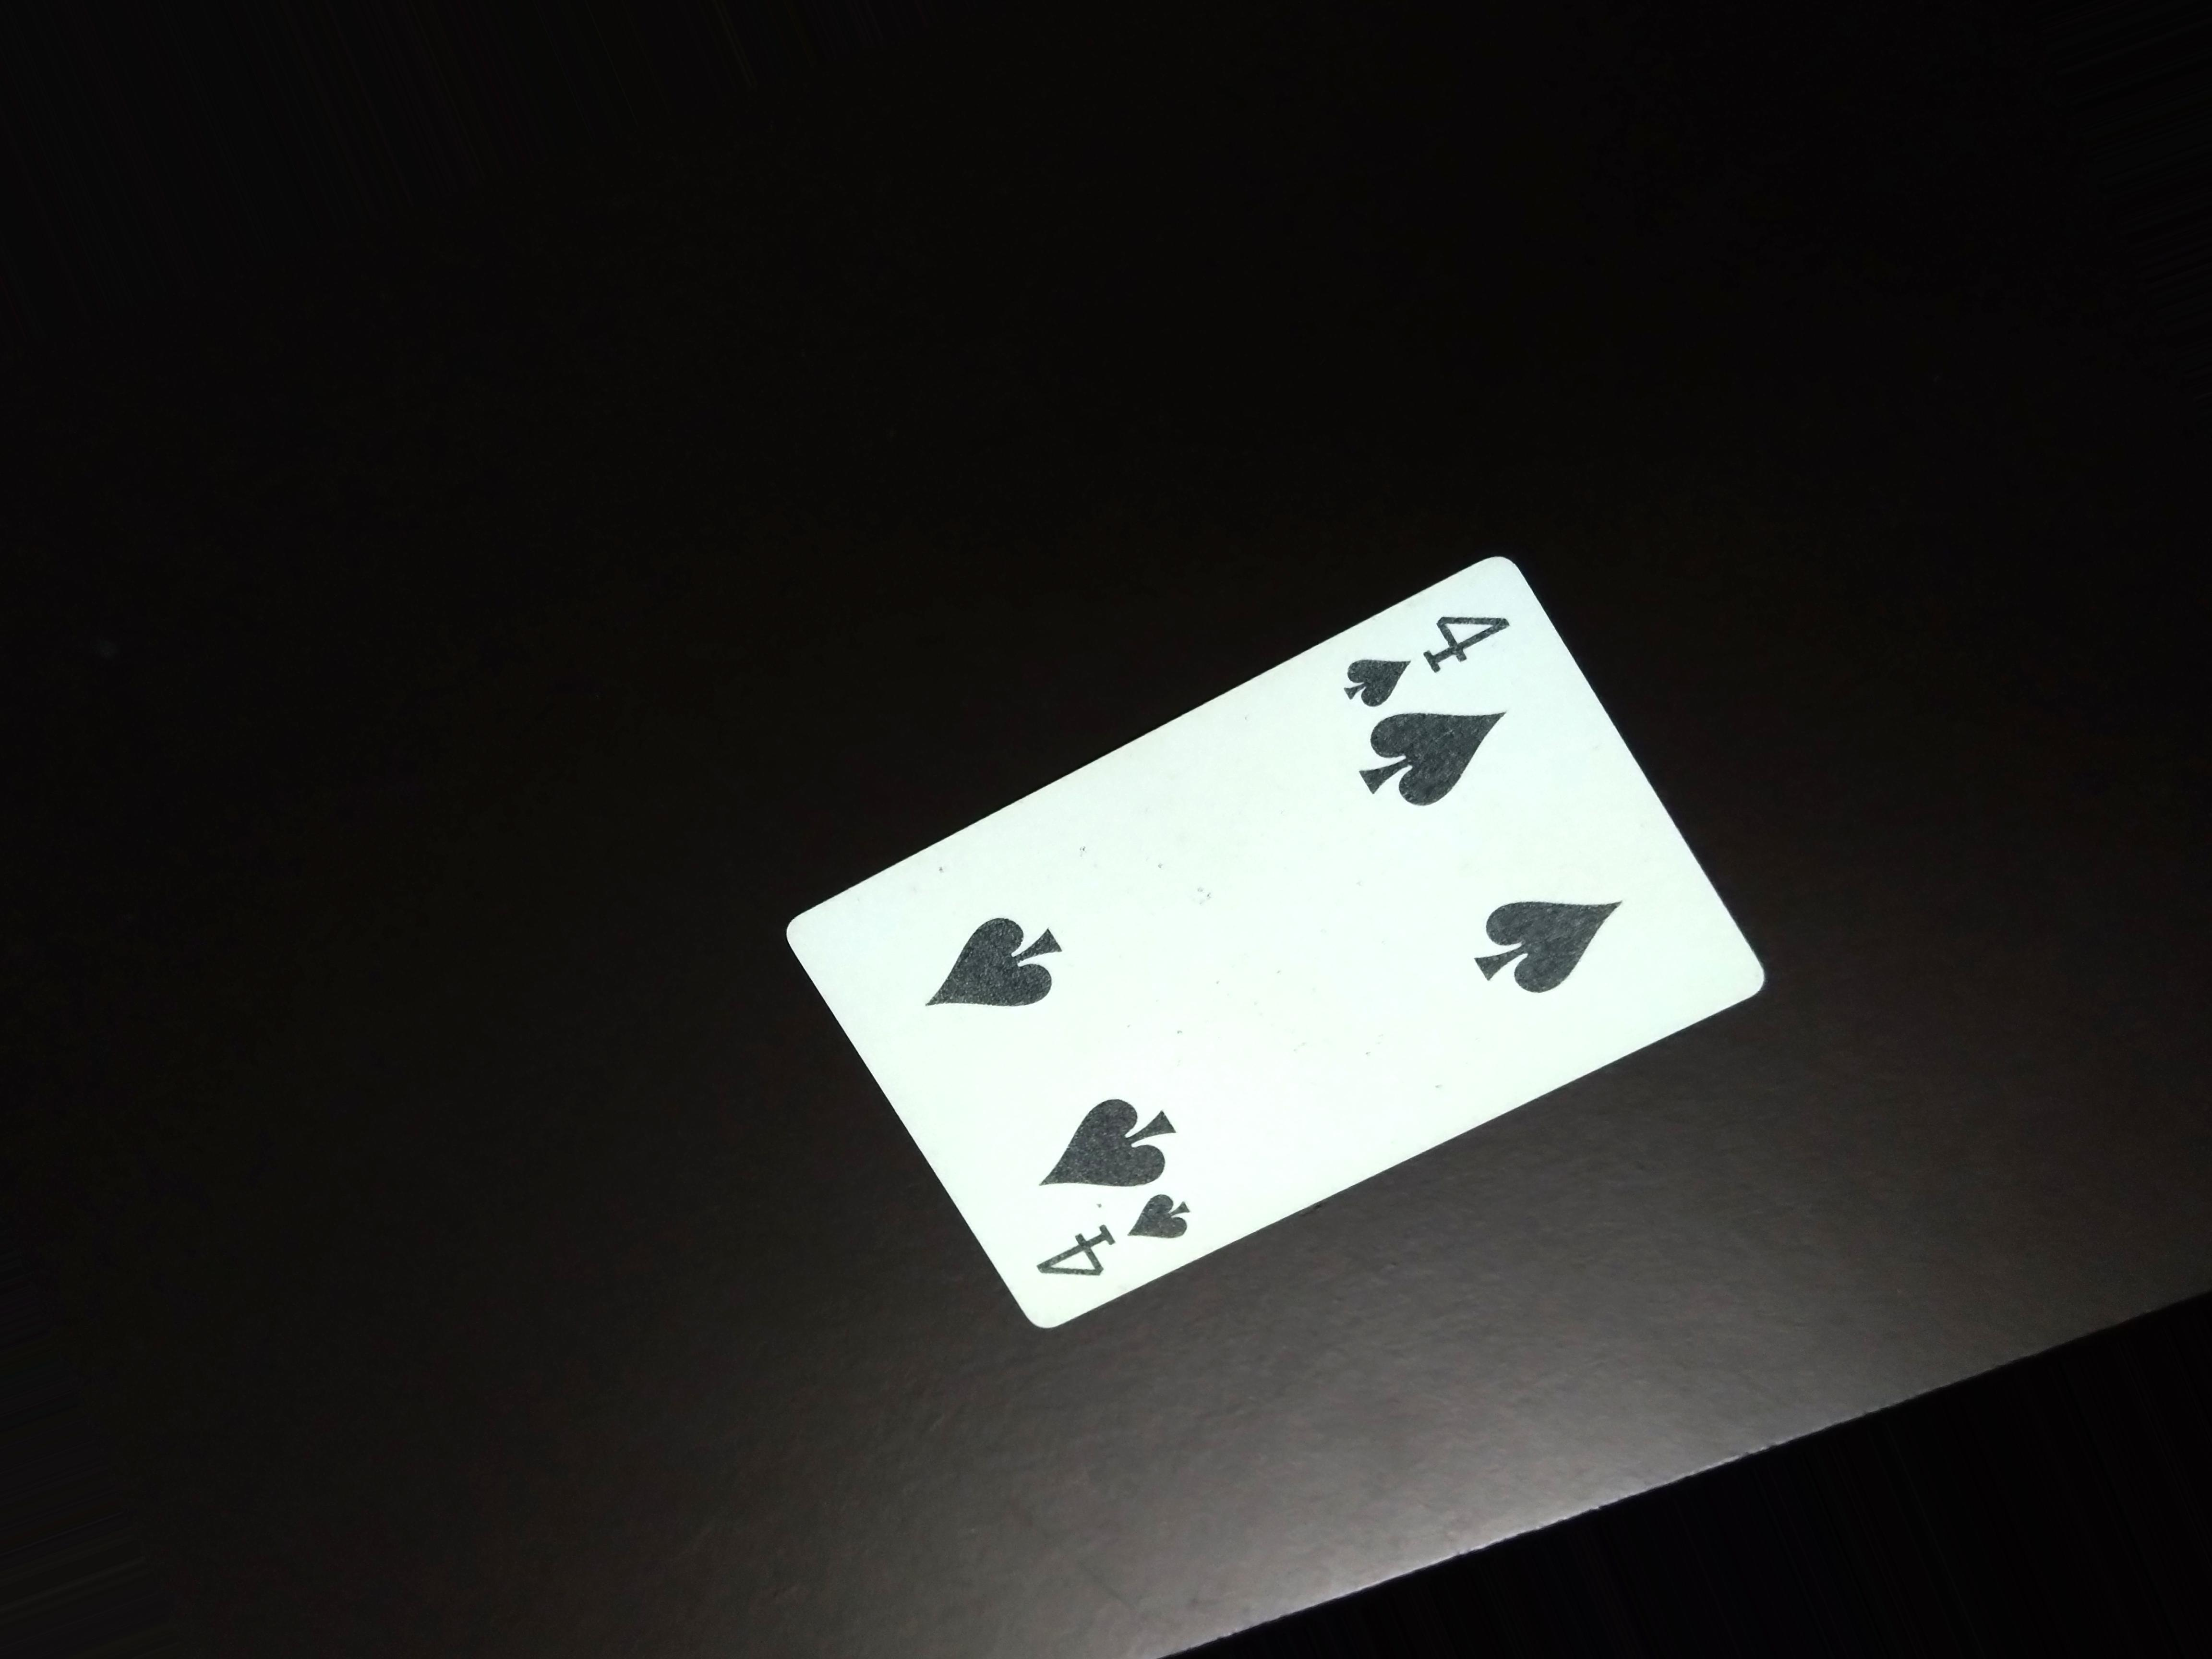4S: (1338, 582, 1527, 709)
